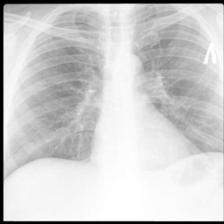tuberculosis: (3, 4, 224, 188)
